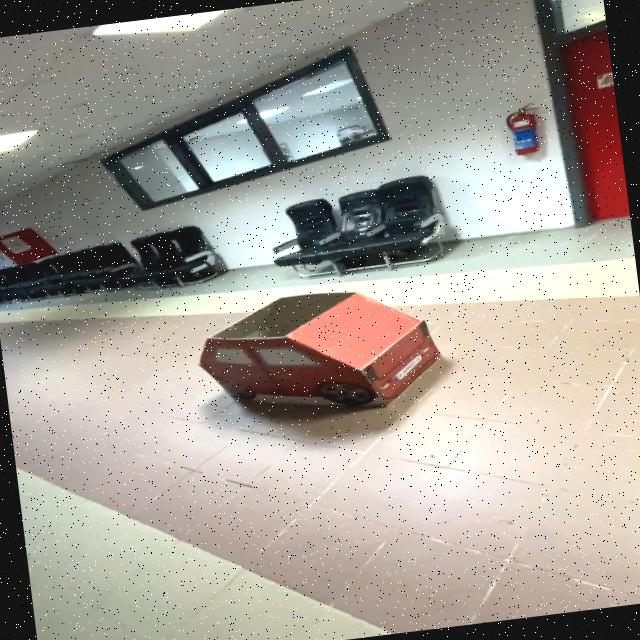red_car: (169, 255, 488, 453)
